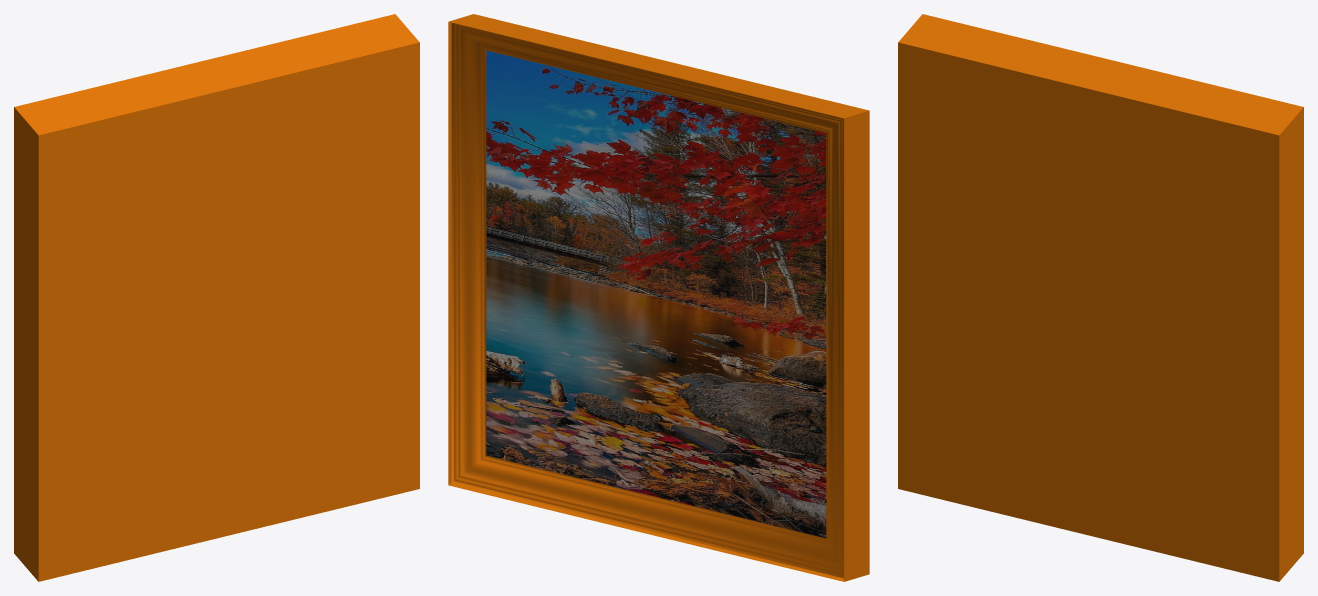
3 renders of one model, left to right at view 1: azimuth 30°, elevation 25°; view 2: azimuth 150°, elevation 25°; view 3: azimuth 330°, elevation 25°, orthographic. The views are drawn at different scales.
Visible parts, largest first — view 1: Cube; view 2: Cube; view 3: Cube.
Part boxes in pixels (x1,y1,x2,y2): Cube: (14, 14, 419, 581); Cube: (448, 14, 869, 581); Cube: (898, 14, 1303, 581).
Bounding box in the file's own units: 2 × 2.29 × 0.2224.
Materials: 2 (1 with a texture image).
